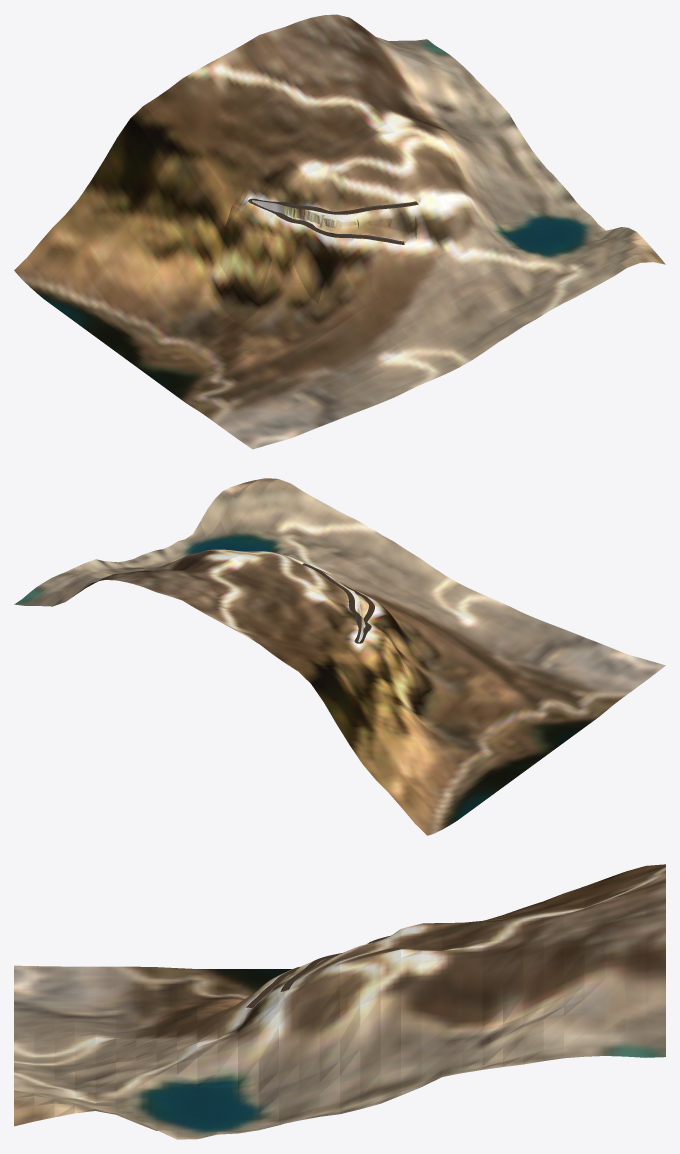
The model's file is raurarelief_stage2_visual.glb.
The picture shows the model from 3 angles, top to bottom: view 1: azimuth 30°, elevation 25°; view 2: azimuth 150°, elevation 25°; view 3: azimuth 270°, elevation 25°; orthographic projection. The views are drawn at different scales.
Parts seen in each view (by area): view 1: Ladera DSM, Road; view 2: Ladera DSM, Road; view 3: Ladera DSM, Road.
Part boxes in pixels (<box>): Ladera DSM: <box>14,14,665,449</box>; Road: <box>248,199,417,243</box>; Ladera DSM: <box>14,478,665,835</box>; Road: <box>302,563,373,643</box>; Ladera DSM: <box>14,864,665,1139</box>; Road: <box>248,936,389,1007</box>.
Size of the model in its own units: 960 by 415 by 960.
Materials: 5 (5 with a texture image).
